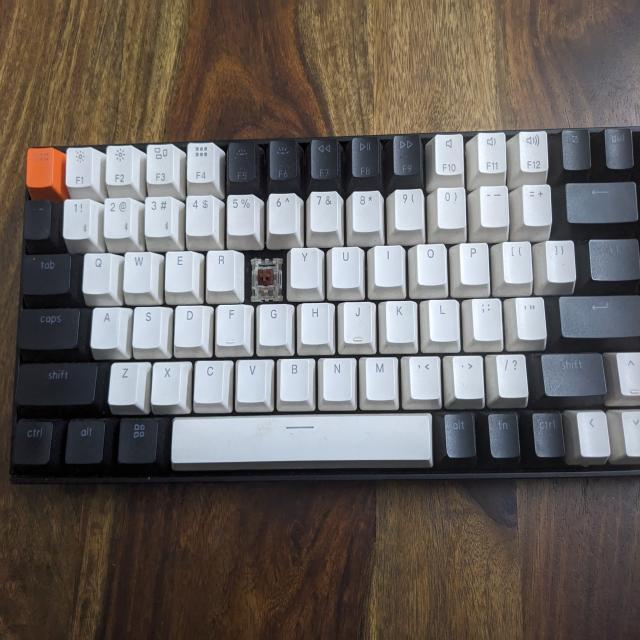key-switch: (250, 254, 284, 302)
